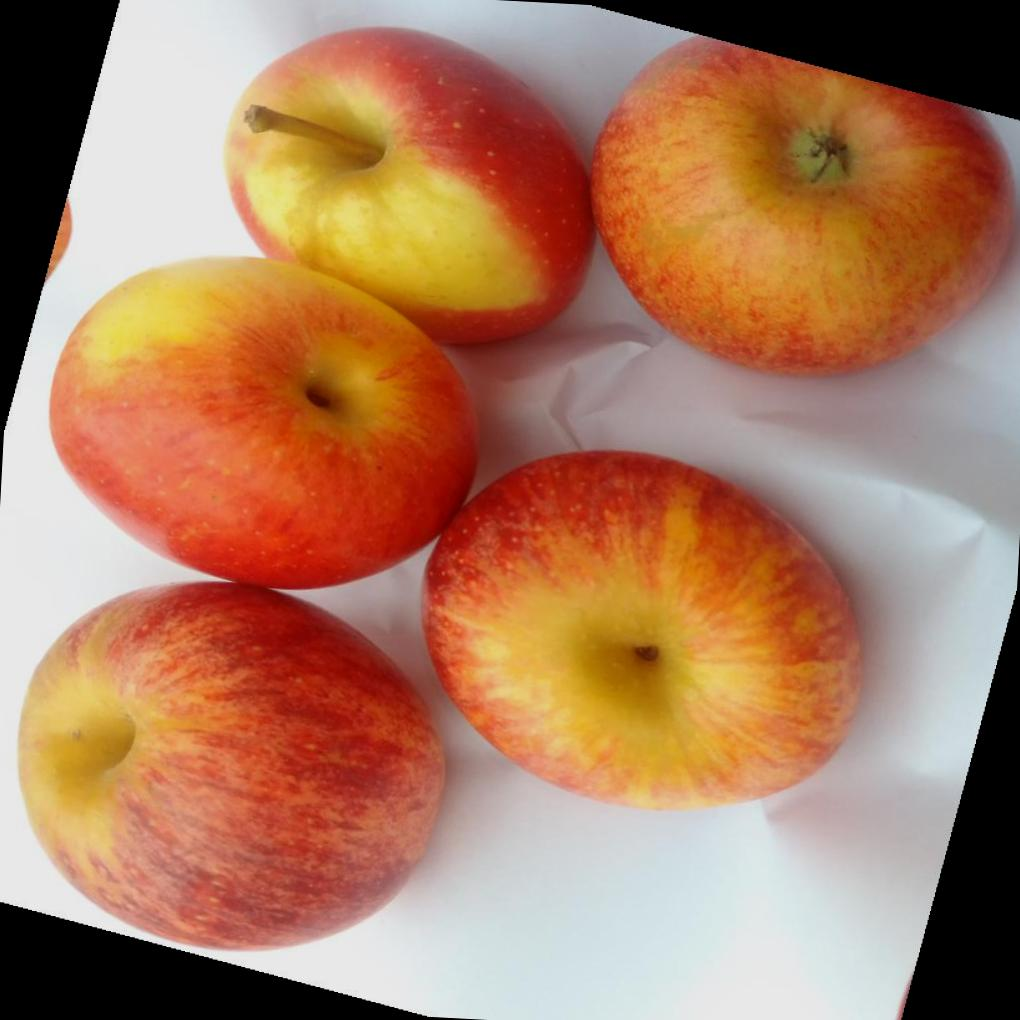FreshGuava: (17, 43, 1020, 958)
